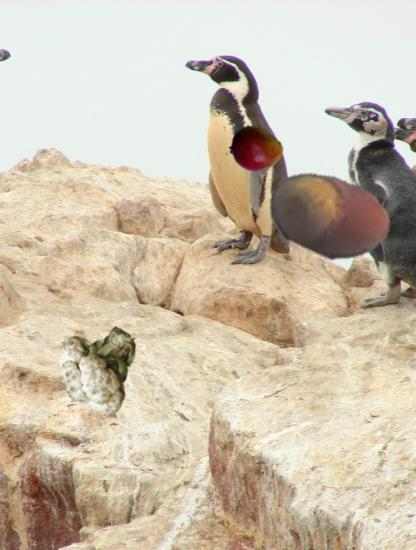Cauliflower: (54, 320, 143, 409)
Hazelnut: (259, 148, 394, 283)
Mango: (229, 122, 284, 177)
